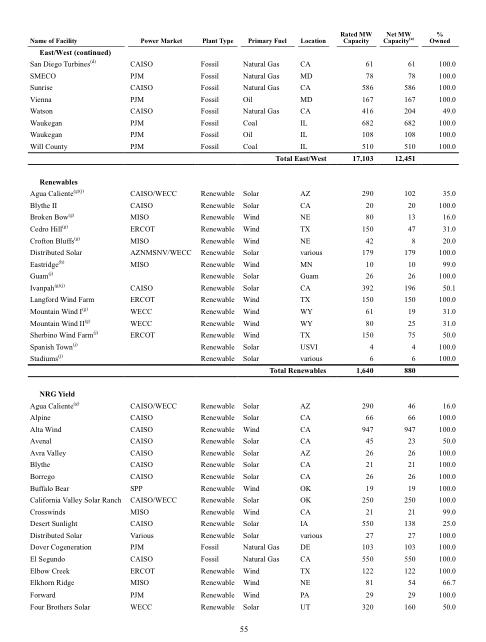table: (28, 28, 454, 610)
table column: (28, 28, 124, 610), (124, 28, 195, 610), (237, 28, 292, 610), (332, 28, 377, 610), (377, 28, 421, 610), (195, 28, 237, 610), (292, 28, 332, 610), (421, 28, 454, 610)
table column header: (28, 28, 454, 45)
table projected row header: (28, 168, 454, 186), (28, 380, 454, 398), (28, 45, 454, 56)
table row: (28, 168, 454, 186), (28, 380, 454, 398), (28, 28, 454, 45), (28, 151, 454, 168), (28, 363, 454, 380), (28, 56, 454, 68), (28, 68, 454, 80), (28, 80, 454, 92), (28, 92, 454, 104), (28, 115, 454, 127), (28, 127, 454, 139), (28, 139, 454, 151), (28, 186, 454, 198), (28, 209, 454, 221), (28, 221, 454, 233), (28, 233, 454, 245), (28, 256, 454, 268), (28, 268, 454, 280), (28, 280, 454, 292), (28, 292, 454, 304), (28, 315, 454, 327), (28, 327, 454, 339), (28, 339, 454, 351), (28, 351, 454, 363), (28, 398, 454, 410), (28, 410, 454, 422), (28, 422, 454, 434), (28, 445, 454, 457), (28, 457, 454, 469), (28, 469, 454, 481), (28, 481, 454, 493), (28, 504, 454, 516), (28, 516, 454, 528), (28, 528, 454, 540), (28, 551, 454, 563), (28, 563, 454, 575), (28, 575, 454, 587), (28, 587, 454, 599), (28, 45, 454, 56), (28, 104, 454, 115), (28, 198, 454, 209), (28, 245, 454, 256), (28, 304, 454, 315), (28, 434, 454, 445), (28, 493, 454, 504), (28, 540, 454, 551), (28, 599, 454, 610)
table spanning cell: (28, 151, 332, 168), (28, 363, 332, 380)
